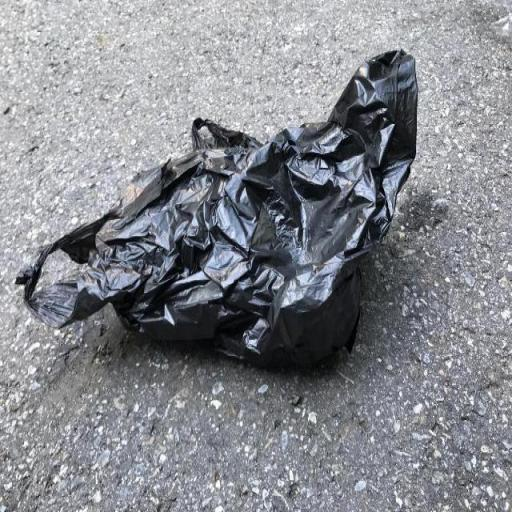plastic-bag: (14, 45, 420, 373)
